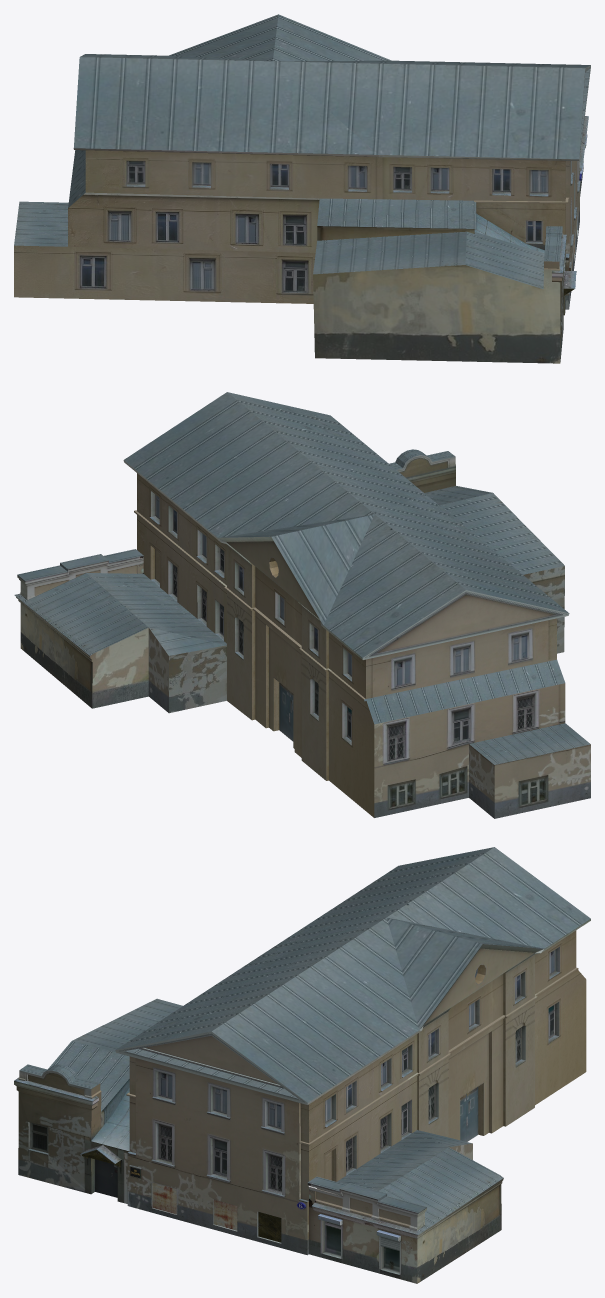
File: building.gltf
3 views of the same model, one above another, from view 1: azimuth 30°, elevation 25°; view 2: azimuth 150°, elevation 25°; view 3: azimuth 270°, elevation 25° (orthographic). The views are drawn at different scales.
Bounding box in the file's own units: 2.5 × 0.8403 × 2.15.
Materials: 2 (2 with a texture image).
